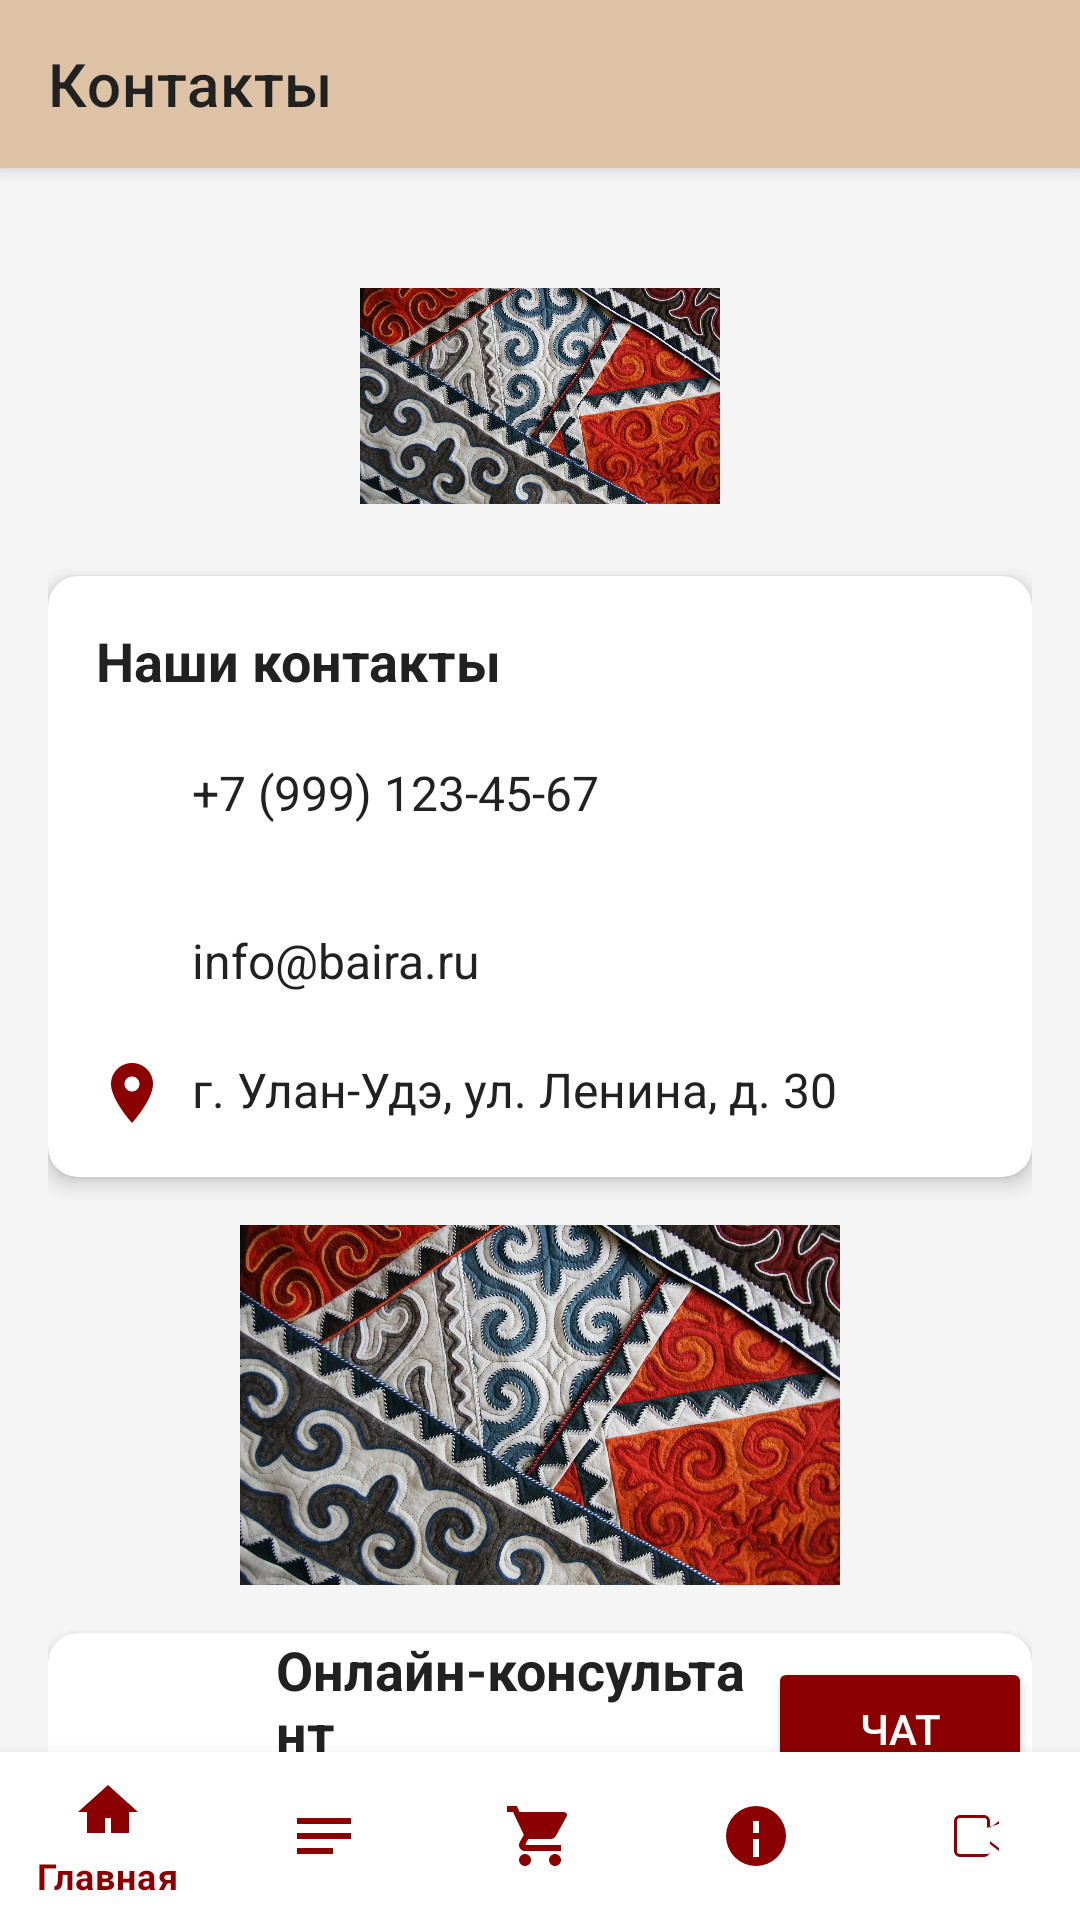

Screen size 1080px x 1920px. Icon name, then its center in pixels as [x,y]:
Иконка локации: [132,1093]
